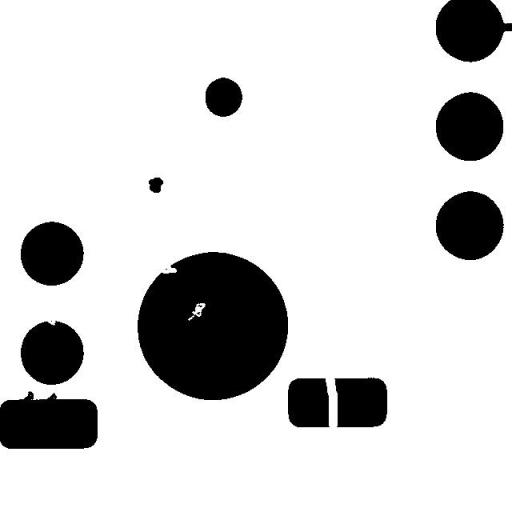copper: (141, 170, 170, 200)
mousebite: (154, 256, 184, 281), (39, 312, 63, 333)
open: (318, 366, 344, 436)
pin-hole: (180, 295, 213, 328)
spur: (10, 383, 41, 409), (34, 385, 64, 411)
